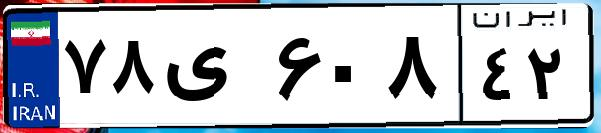0: (330, 28, 385, 110)
2: (525, 38, 570, 115)
4: (475, 38, 525, 113)
6: (270, 28, 330, 110)
7: (57, 26, 110, 100)
8: (385, 28, 445, 110), (110, 28, 158, 98)
ی: (158, 20, 270, 120)
